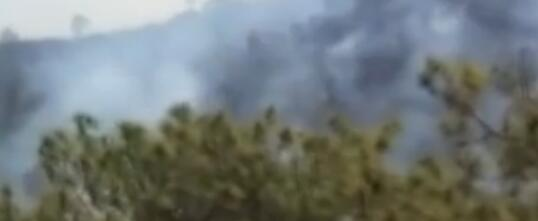yanwu: (8, 0, 538, 168)
